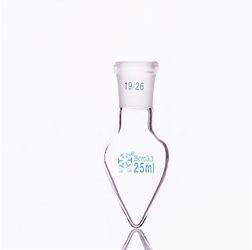Pear shaped flask: (94, 51, 166, 227)
